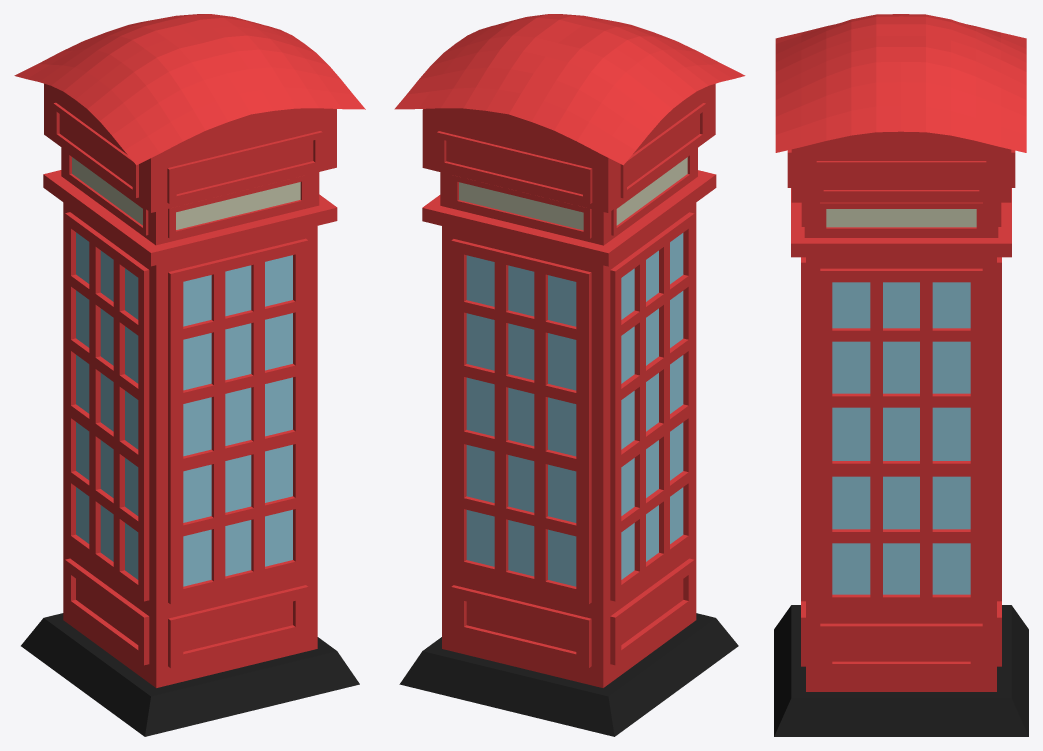
File: phone_booth.glb
3 views of the same model, side by side, from view 1: azimuth 30°, elevation 25°; view 2: azimuth 150°, elevation 25°; view 3: azimuth 270°, elevation 25° (orthographic). The views are drawn at different scales.
Visible parts, largest first — view 1: Cube, Grid; view 2: Cube, Grid; view 3: Cube, Grid.
Part boxes in pixels (<box>): Cube: <box>21,83,359,736</box>; Grid: <box>14,14,365,165</box>; Cube: <box>399,83,738,736</box>; Grid: <box>394,14,745,165</box>; Cube: <box>774,131,1028,736</box>; Grid: <box>775,14,1026,152</box>.
Bounding box in the file's own units: 2.13 × 5.61 × 2.
